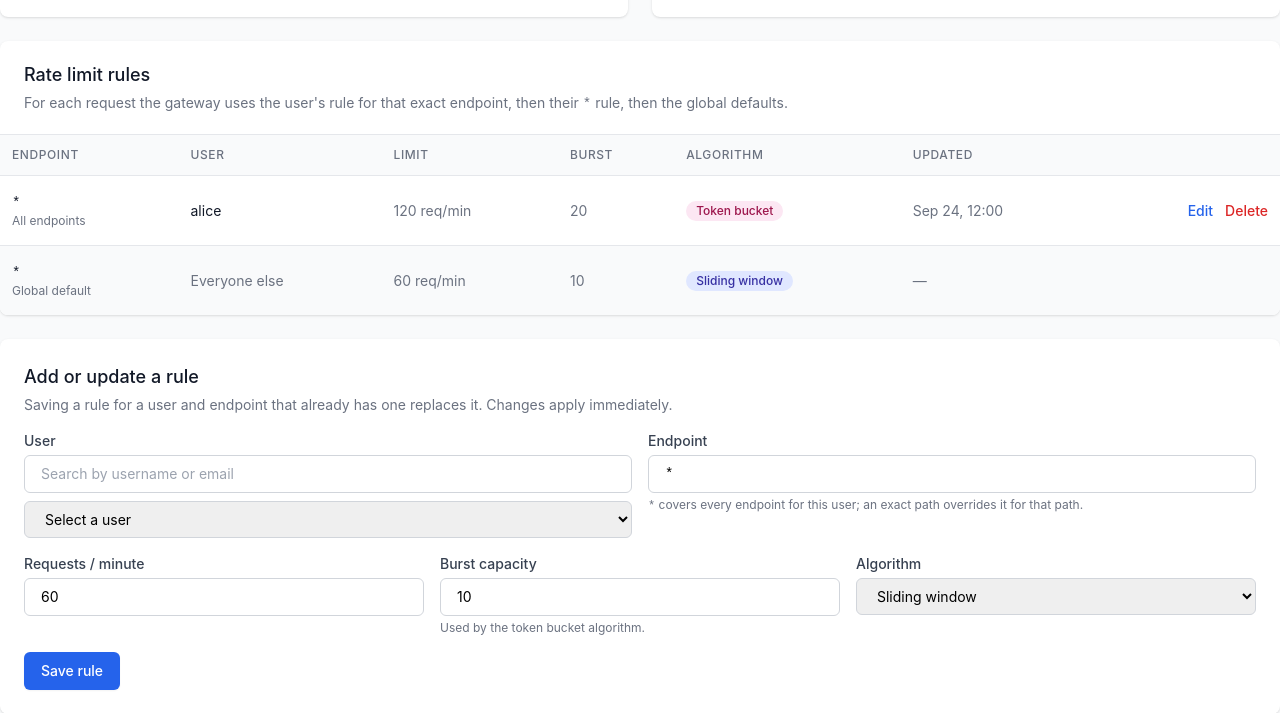
Test: RateLimitMonitor › client-side validation stops obviously bad input
This screenshot has width=1280, height=713.
(page scrolled)
Click the button "Save rule" at {"x": 72, "y": 671}, box [24,652,120,690]
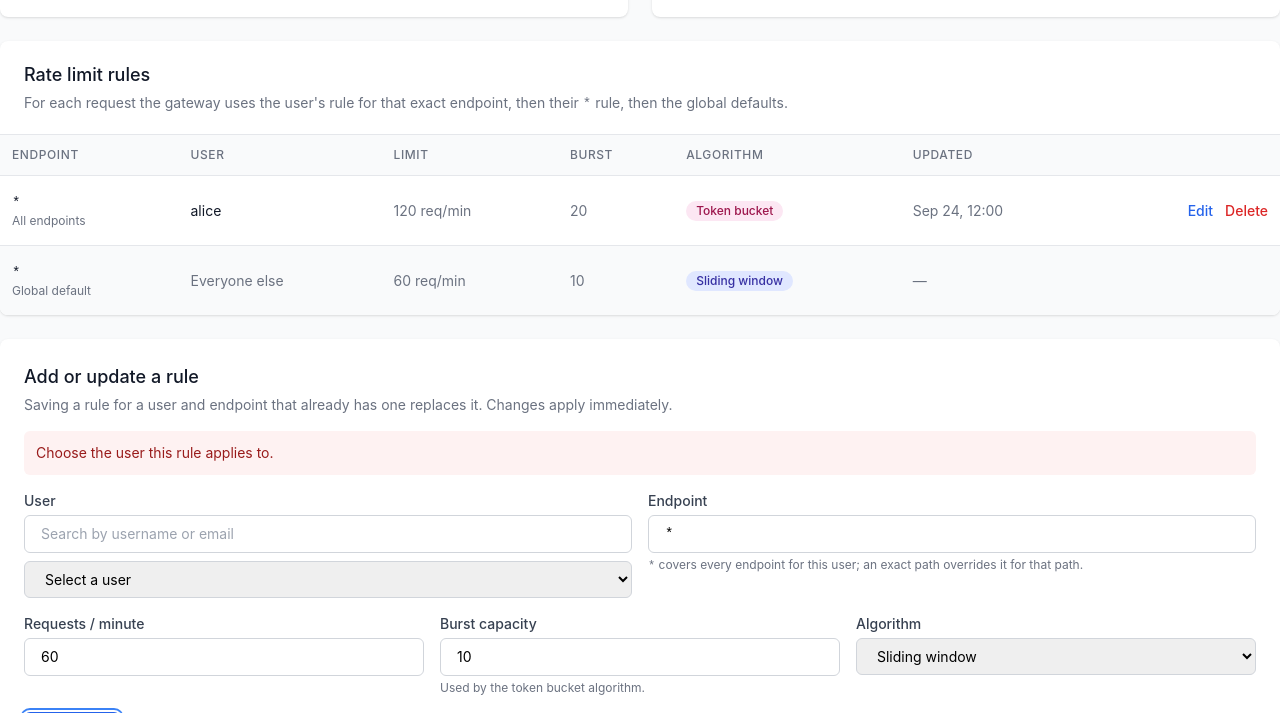
expect the text "Choose the user this rule applies to." is shown: met, box [24,431,1256,475]
